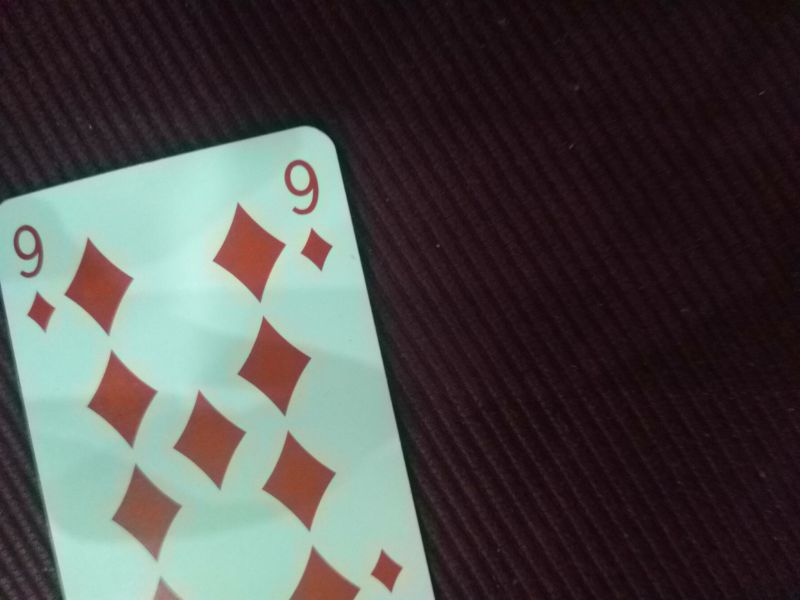9d: (277, 150, 340, 275), (5, 220, 60, 333)
